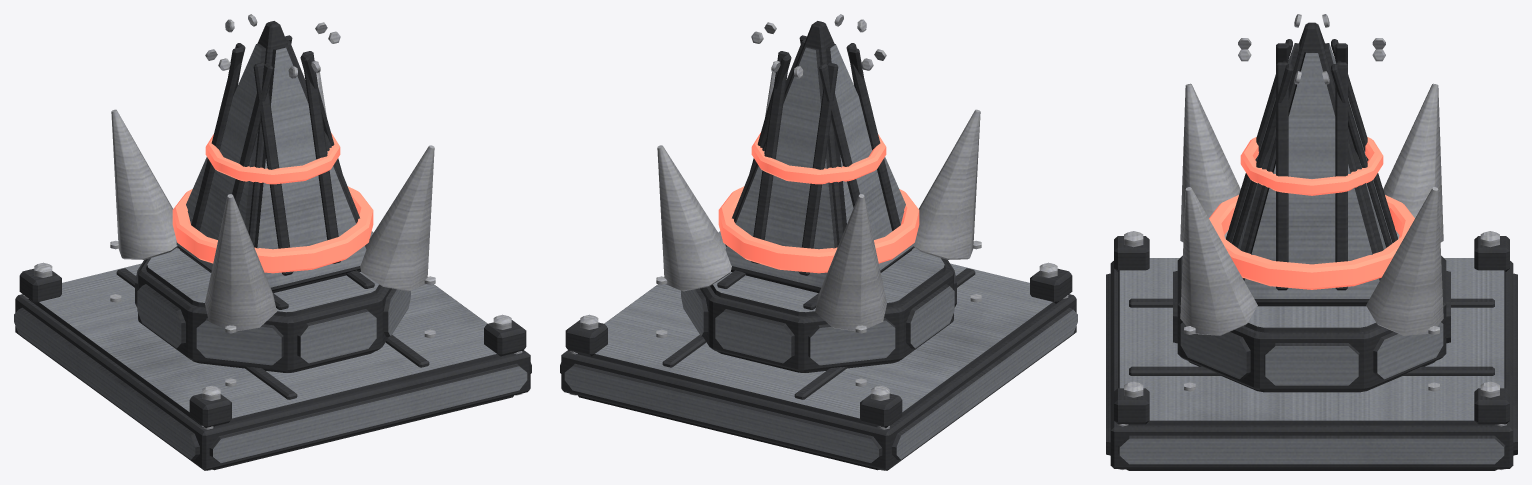
File: R4X_DamageBooster.glb
3 views of the same model, side by side, from view 1: azimuth 30°, elevation 25°; view 2: azimuth 150°, elevation 25°; view 3: azimuth 270°, elevation 25° (orthographic). The views are drawn at different scales.
Visible parts, largest first — view 1: R4X_DamageBooster_Body; view 2: R4X_DamageBooster_Body; view 3: R4X_DamageBooster_Body.
Part boxes in pixels (left/top/right/bottom): R4X_DamageBooster_Body: left=14, top=14, right=531, bottom=470; R4X_DamageBooster_Body: left=560, top=14, right=1077, bottom=470; R4X_DamageBooster_Body: left=1106, top=14, right=1517, bottom=470.
Bounding box in the file's own units: 0.52 × 0.509 × 0.52.
Materials: 4 (3 with a texture image).
